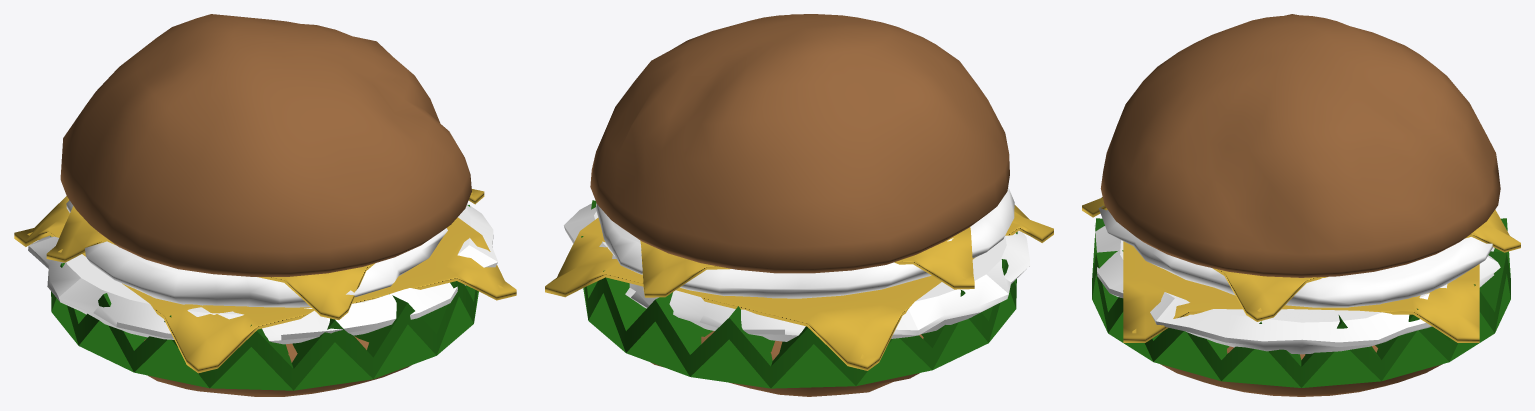
File: burguiir2.glb
3 views of the same model, side by side, from view 1: azimuth 30°, elevation 25°; view 2: azimuth 150°, elevation 25°; view 3: azimuth 270°, elevation 25° (orthographic). The views are drawn at different scales.
Parts seen in each view (by area): view 1: Pan Arriba, Lechuga, Carne 1, Quesito, Carne 1.001, Quesito.001, Pan abajo; view 2: Pan Arriba, Lechuga, Quesito, Carne 1, Carne 1.001, Quesito.001, Pan abajo; view 3: Pan Arriba, Lechuga, Carne 1, Quesito, Carne 1.001, Quesito.001, Pan abajo.
Part boxes in pixels (x1,y1,x2,y2): Pan Arriba: (60,14,471,276); Lechuga: (50,205,478,390); Carne 1: (28,204,497,344); Quesito: (14,196,516,373); Carne 1.001: (66,200,447,307); Quesito.001: (46,189,484,320); Pan abajo: (144,336,411,396); Pan Arriba: (590,14,1009,273); Lechuga: (581,200,1017,388); Quesito: (545,205,1053,370); Carne 1: (564,203,1030,341); Carne 1.001: (595,187,1014,298); Quesito.001: (640,227,974,297); Pan abajo: (651,331,923,396); Pan Arriba: (1100,14,1500,277); Lechuga: (1092,218,1510,387); Carne 1: (1094,224,1500,354); Quesito: (1123,241,1479,342); Carne 1.001: (1098,205,1492,307); Quesito.001: (1082,197,1520,321); Pan abajo: (1160,345,1442,396).
Bounding box in the file's own units: 5.11 × 3.78 × 4.95.
